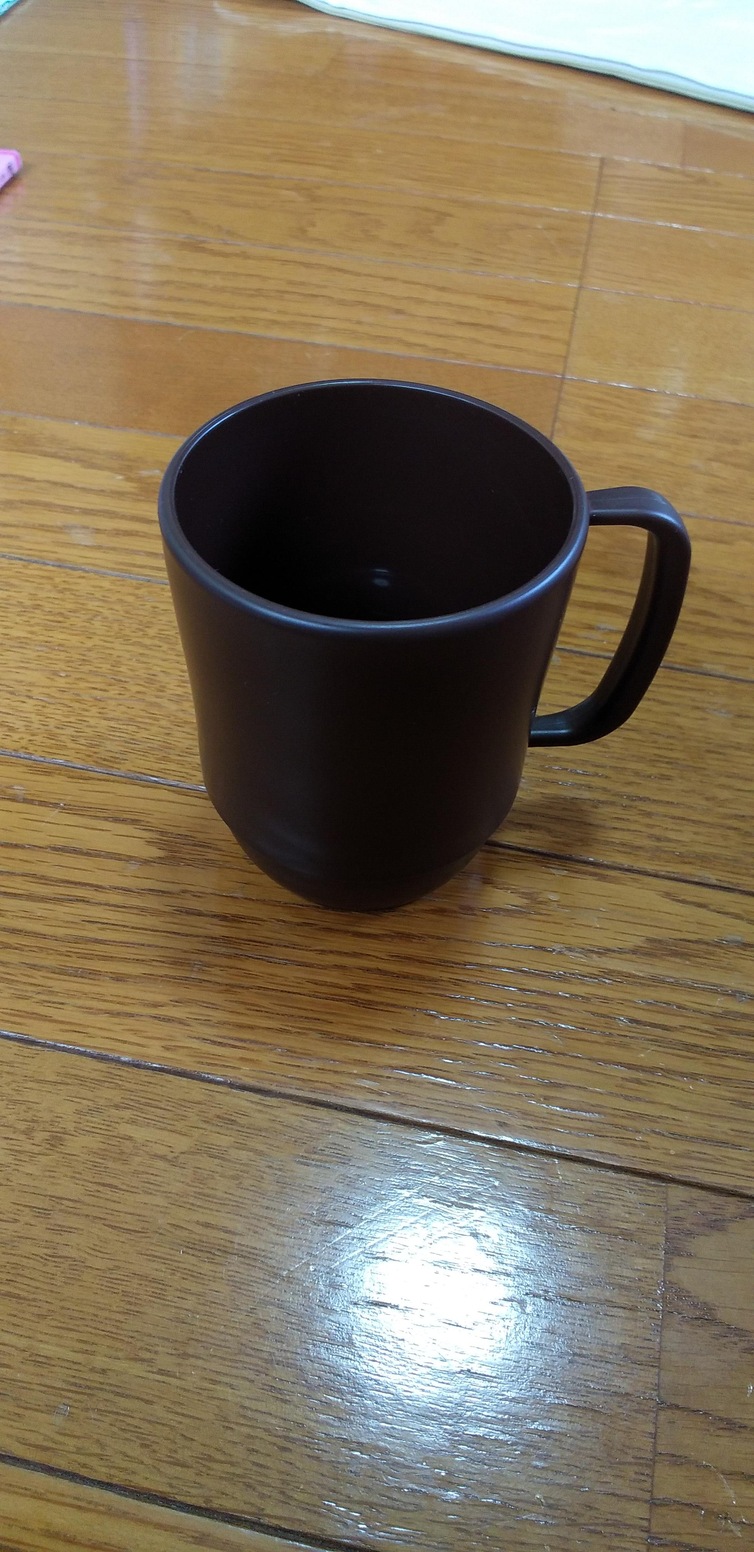mug-real100-3d100: (159, 380, 689, 910)
